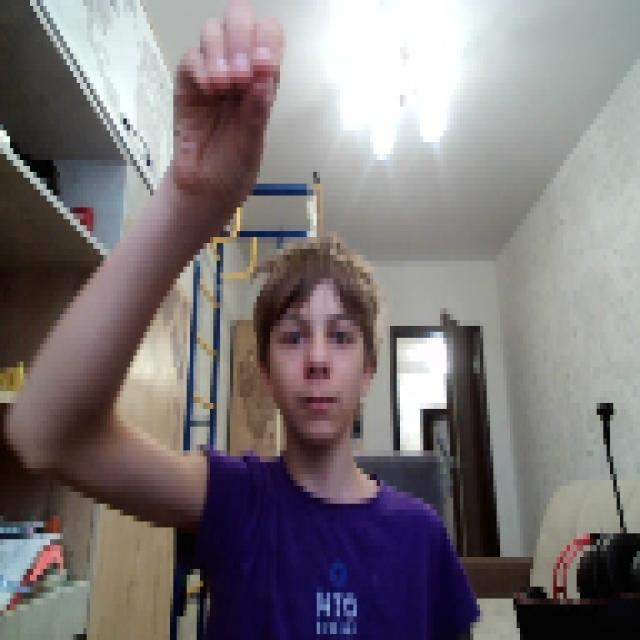left_click: (170, 0, 280, 201)
